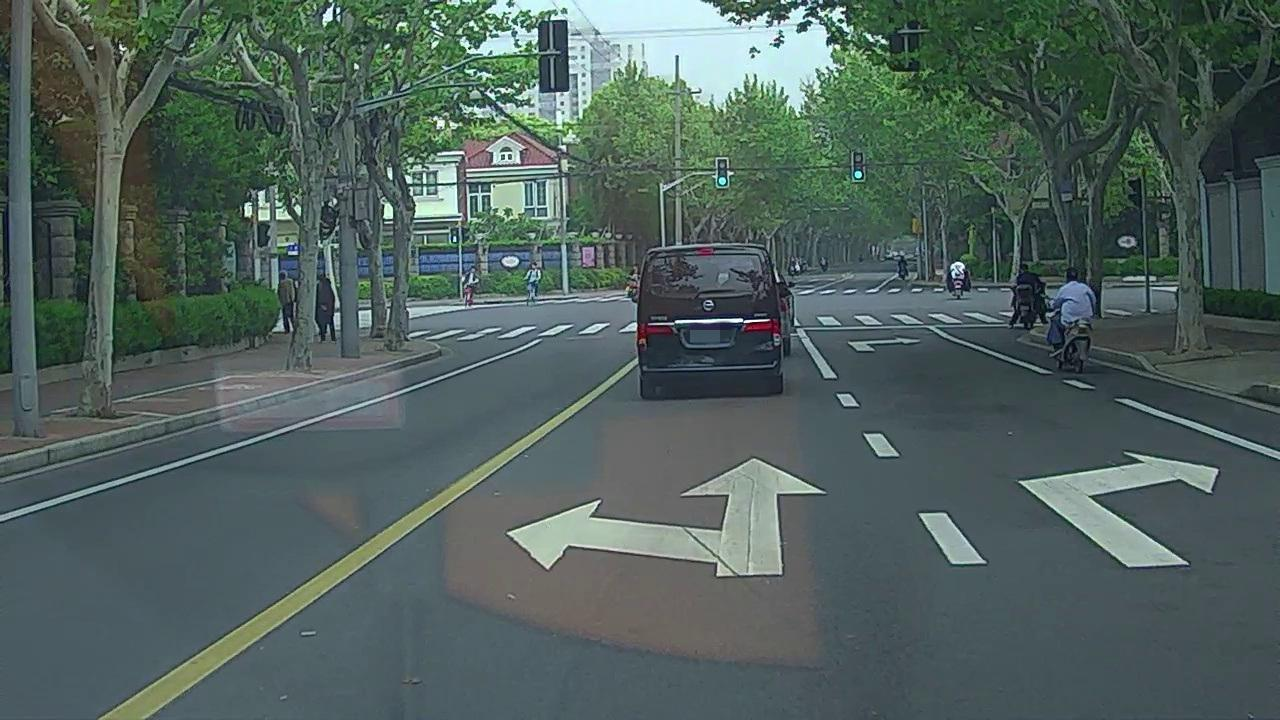traffic_light: (852, 151, 864, 182), (717, 157, 728, 187)
